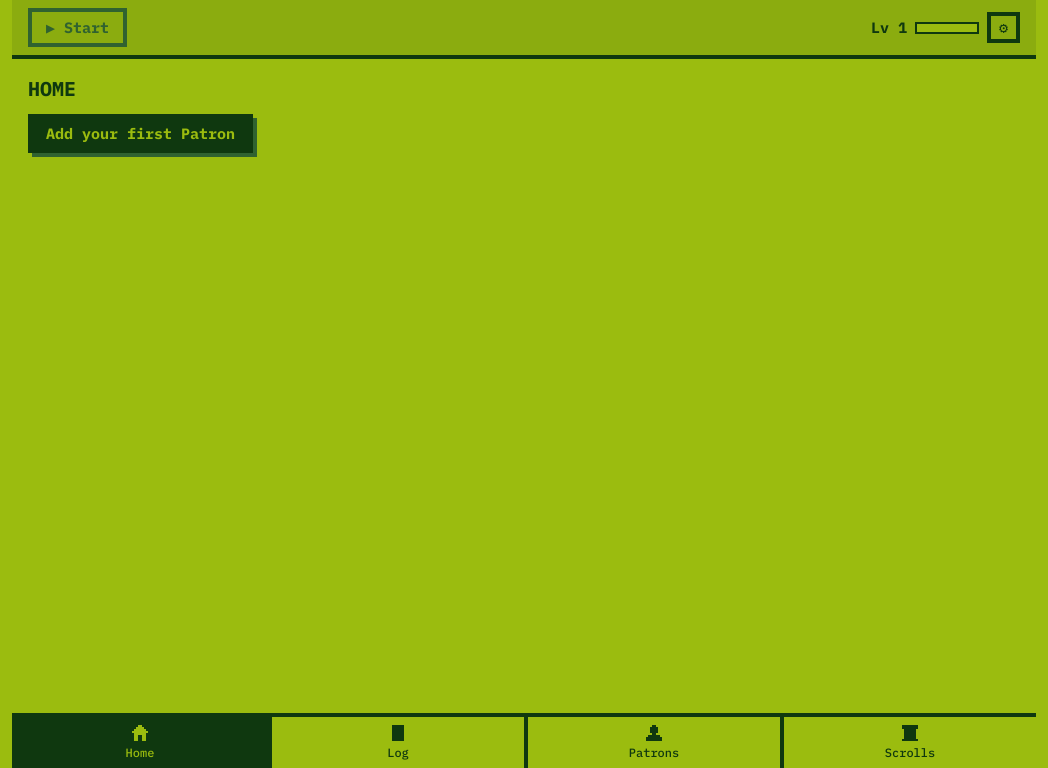
Test: Settings › shows the core's validation error on its field
This screenshot has width=1048, height=768.
Type keys "{Meta>},{/Meta}"
(page scrolled)
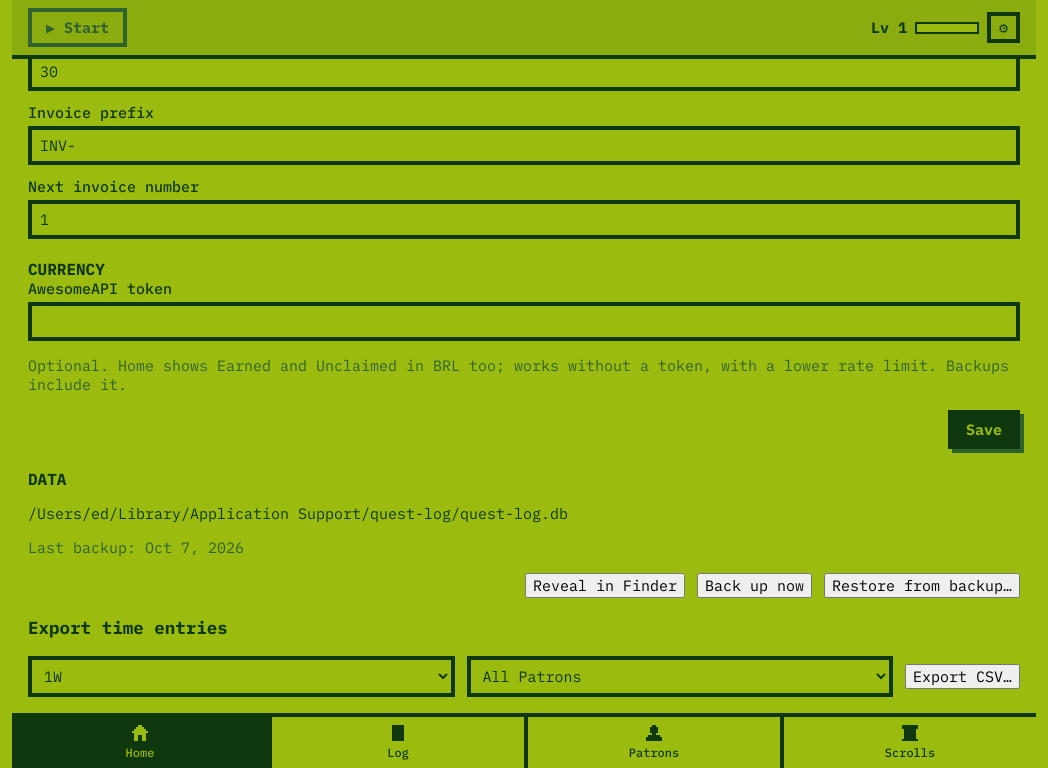
Click the button "Save" at (984, 430), box top-left (948, 410), bottom-right (1020, 449)
(page scrolled)
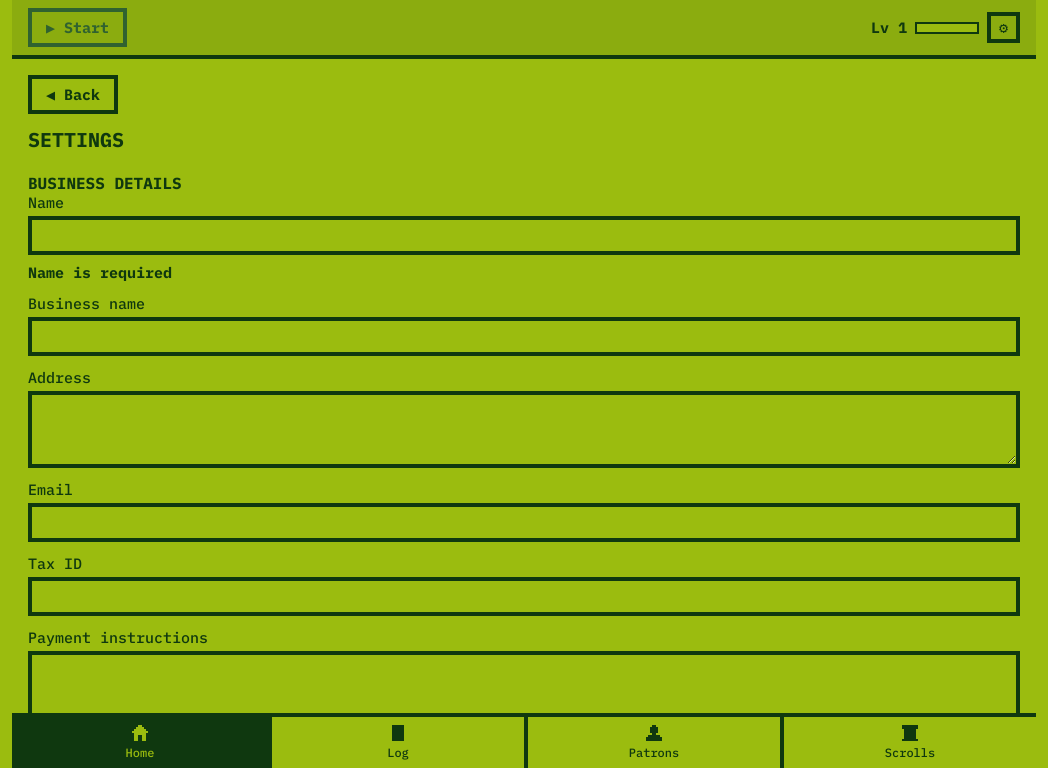
Check: the text "Name is required" is shown, box top-left (28, 263), bottom-right (172, 282)
